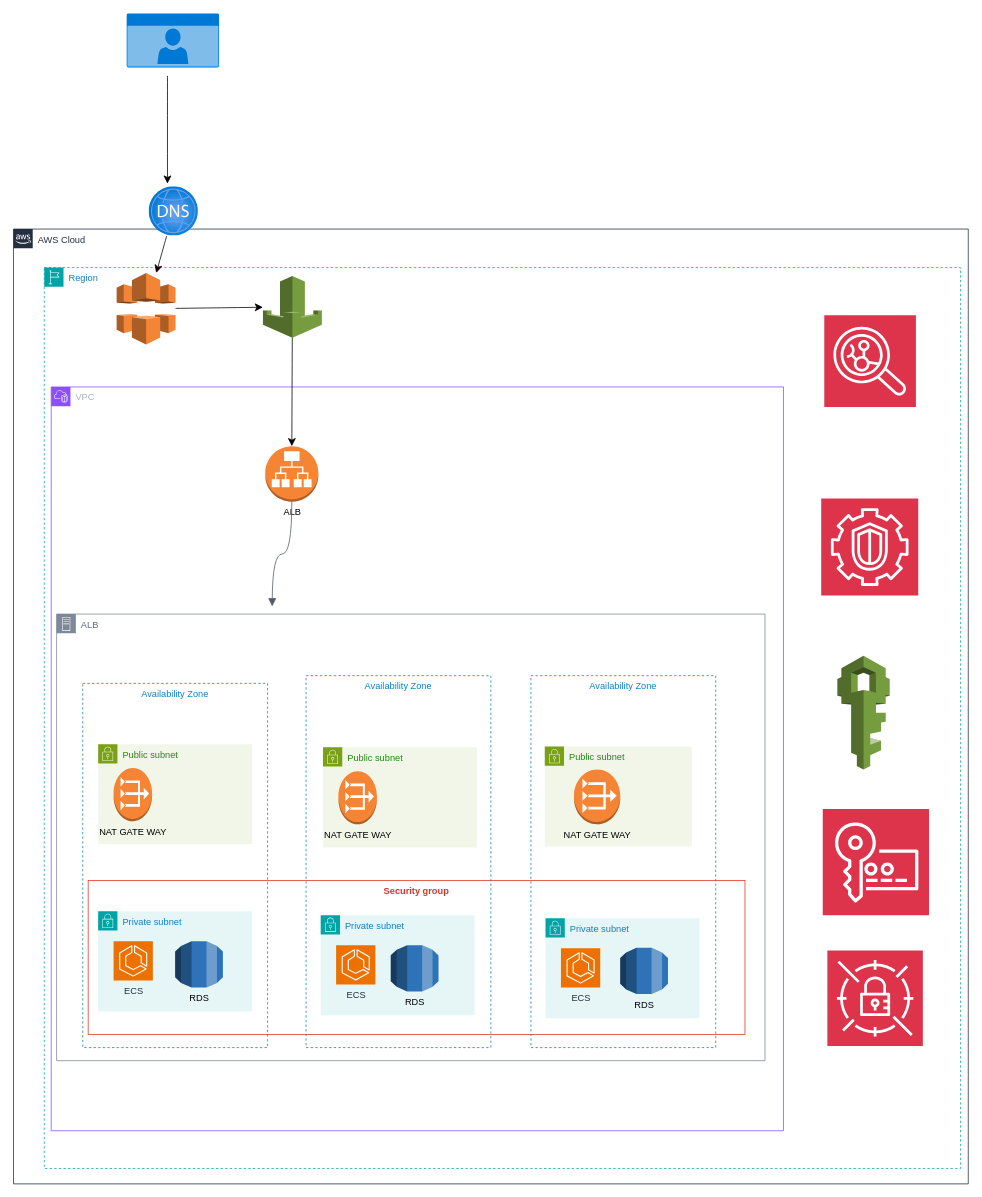
Image size: 982x1197. Some labels were removed from this diagram. The centre of each missing label's shape, as x and y in pixels:
AMAZON INSPECTOR: the point at 870,361
CLOUD FRONT: the point at 146,308
GAURD DUTY: the point at 869,547
IAM: the point at 863,712
KMS: the point at 875,861
SECRET MANAGER: the point at 875,998
User: the point at 172,40
WAF: the point at 292,306
